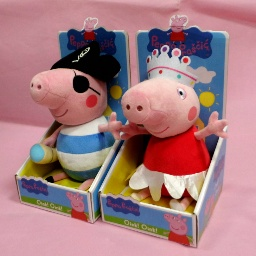Peppa: (120, 50, 230, 211)
